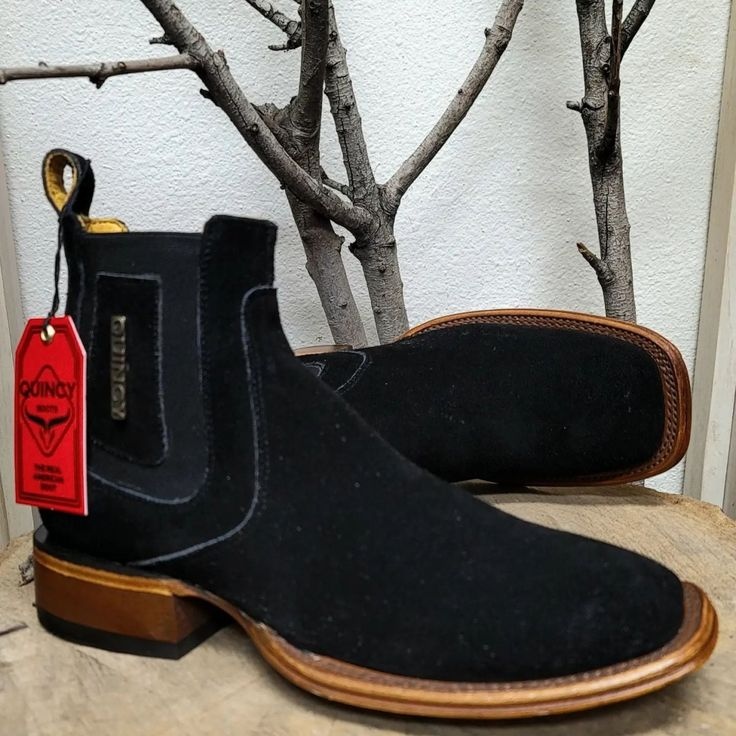gamuza: (37, 222, 684, 674)
